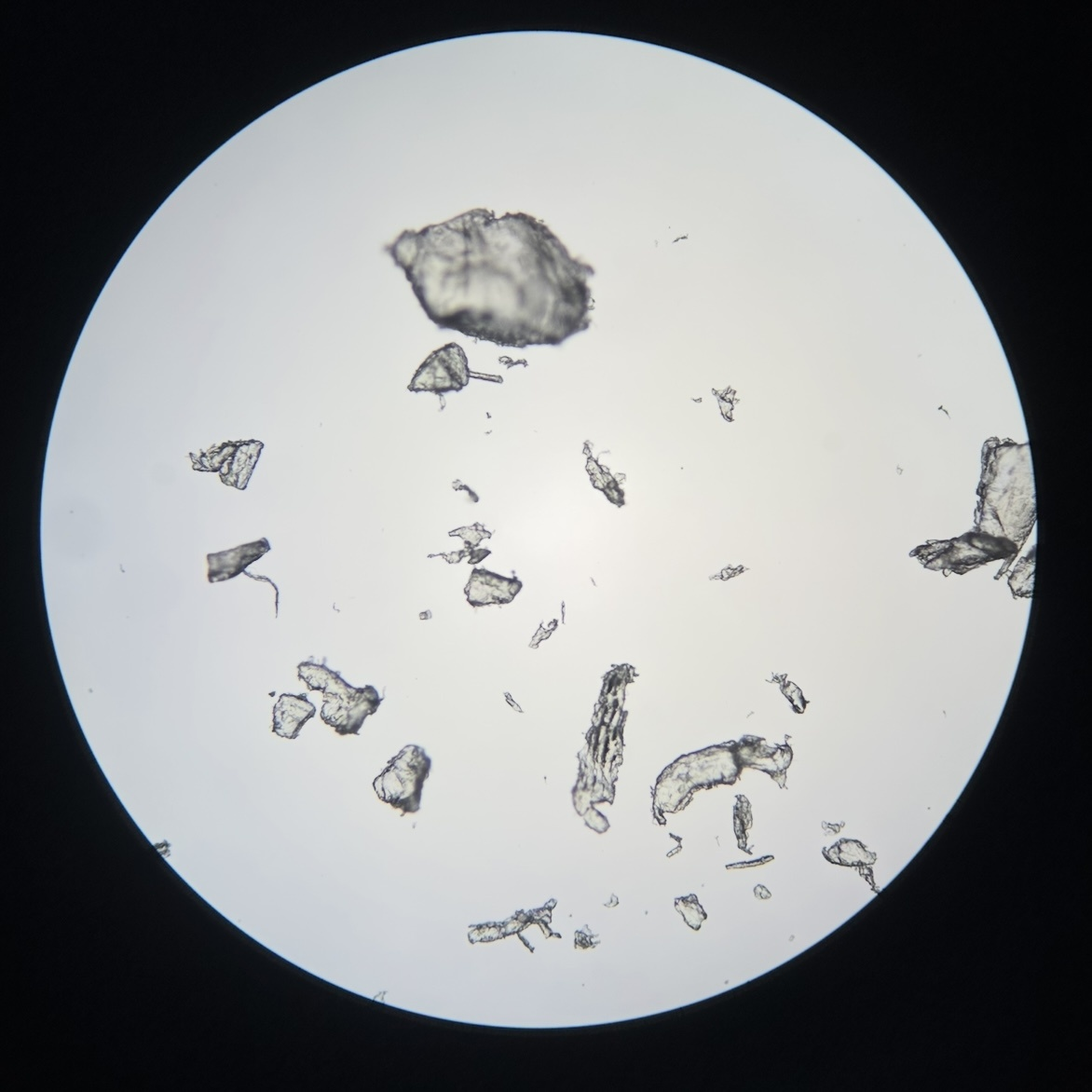microplastic: (388, 209, 594, 349), (908, 440, 1036, 603), (653, 736, 792, 818), (571, 664, 637, 833), (207, 537, 285, 618), (299, 662, 382, 736), (405, 344, 503, 399), (467, 900, 560, 952), (187, 437, 265, 490), (373, 744, 431, 815), (584, 442, 625, 508), (427, 526, 491, 565), (465, 569, 522, 607), (273, 693, 316, 740), (766, 674, 812, 714), (734, 794, 755, 855), (822, 841, 879, 863), (675, 895, 708, 929), (451, 477, 481, 504), (859, 867, 886, 897), (529, 618, 555, 649), (714, 388, 737, 422), (571, 923, 599, 950), (726, 855, 775, 867), (709, 565, 747, 580), (506, 690, 526, 717), (664, 834, 684, 860), (818, 819, 846, 837), (498, 354, 529, 370), (152, 839, 173, 861), (751, 882, 775, 901), (605, 893, 621, 908), (418, 611, 433, 621)
